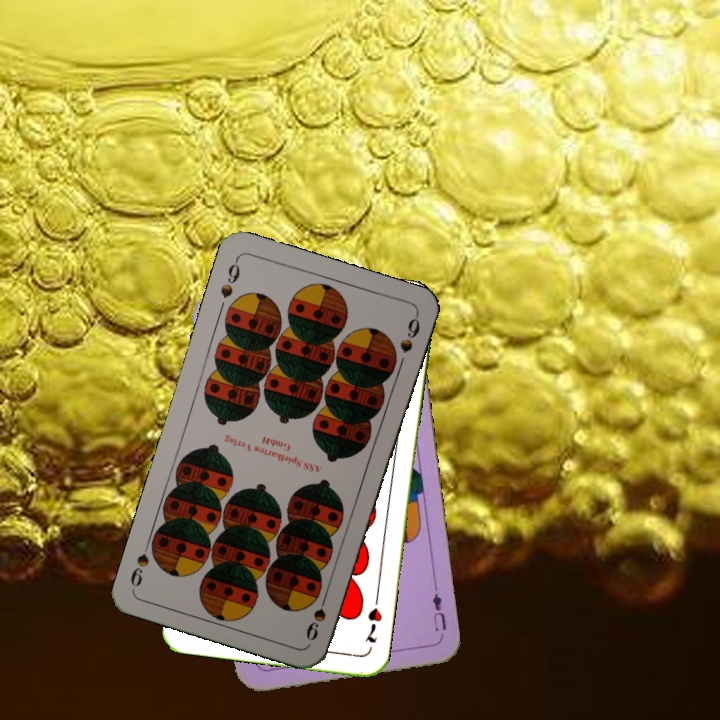EU: (428, 589, 449, 634)
H7: (360, 593, 385, 646)
S9: (301, 587, 331, 644), (216, 255, 243, 301)
